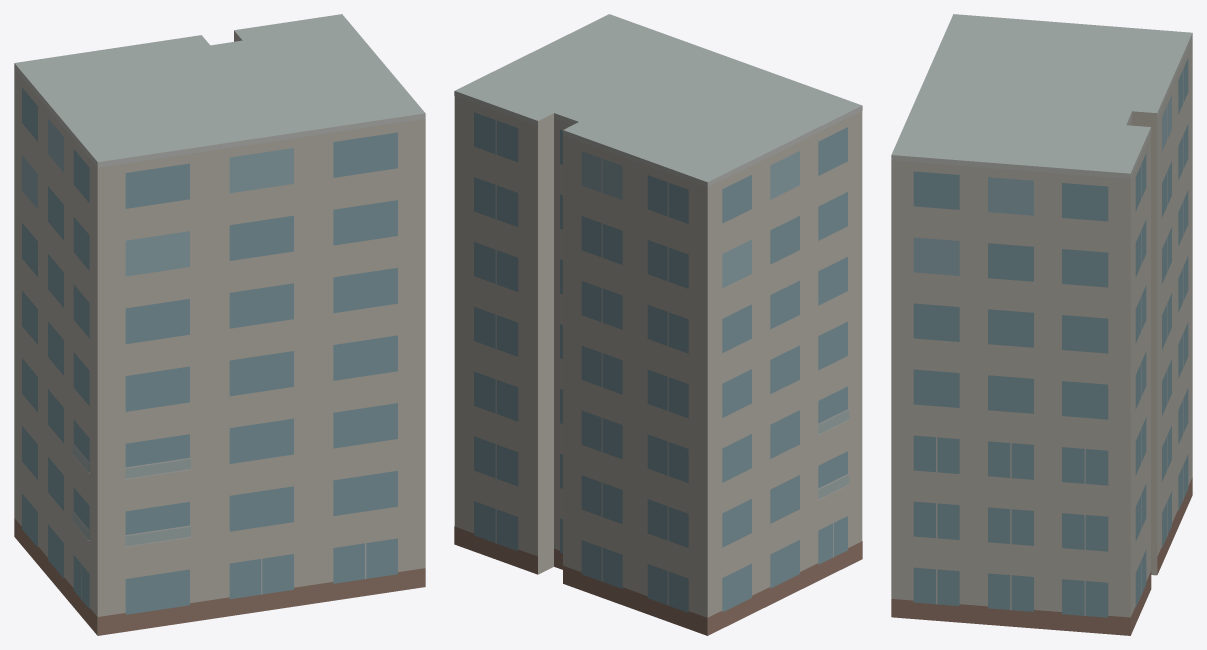
Rendered from survey-upis-32610350.glb.
3 renders of one model, left to right at view 1: azimuth 30°, elevation 25°; view 2: azimuth 150°, elevation 25°; view 3: azimuth 270°, elevation 25°, orthographic. The views are drawn at different scales.
Visible parts, largest first — view 1: survey-upis-32610350.tmp; view 2: survey-upis-32610350.tmp; view 3: survey-upis-32610350.tmp.
Boxes of the visible parts, x1=… form: survey-upis-32610350.tmp: x1=14, y1=14, x2=425, y2=635; survey-upis-32610350.tmp: x1=454, y1=14, x2=862, y2=635; survey-upis-32610350.tmp: x1=891, y1=14, x2=1192, y2=635.
Bounding box in the file's own units: 15.79 × 21.3 × 12.59.
